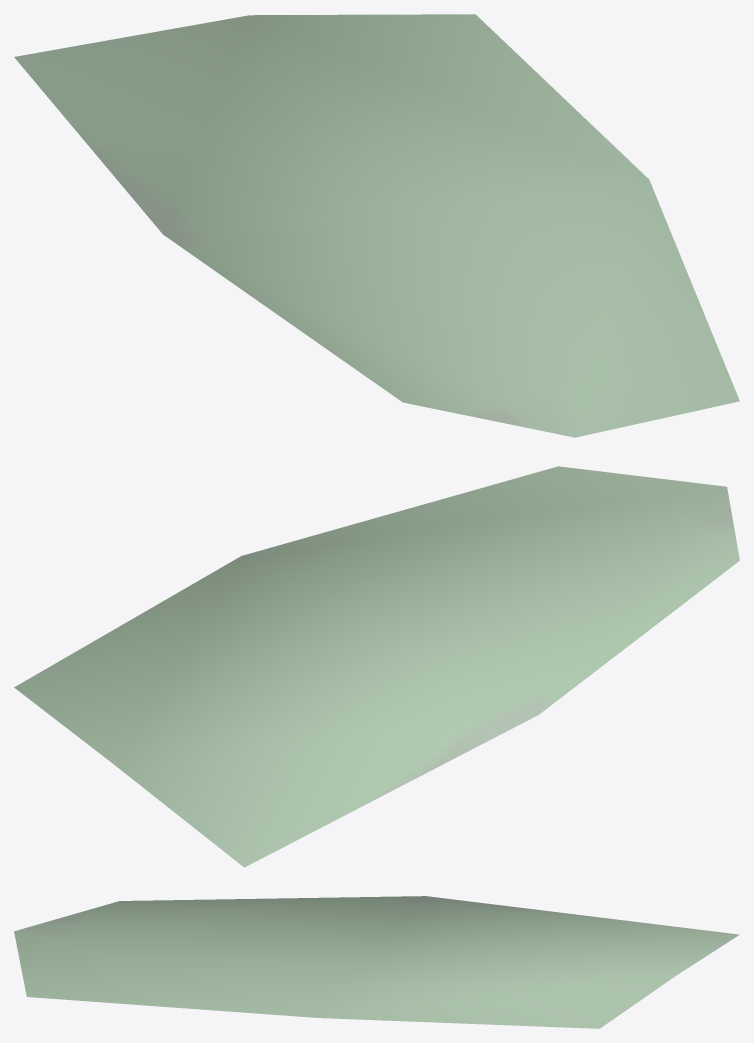
The model's file is TROLLHOLE02_HOLECAP74.fbx.
3 views of the same model, one above another, from view 1: azimuth 30°, elevation 25°; view 2: azimuth 150°, elevation 25°; view 3: azimuth 270°, elevation 25° (orthographic). The views are drawn at different scales.
Parts seen in each view (by area): view 1: TROLLHOLE02_HOLECAP74; view 2: TROLLHOLE02_HOLECAP74; view 3: TROLLHOLE02_HOLECAP74.
Part boxes in pixels (x1,y1,x2,y2): TROLLHOLE02_HOLECAP74: [14, 14, 739, 437]; TROLLHOLE02_HOLECAP74: [14, 466, 739, 867]; TROLLHOLE02_HOLECAP74: [14, 896, 739, 1028].
Bounding box in the file's own units: 11035 × 779 × 23484.
Materials: 1 (1 with a texture image).
